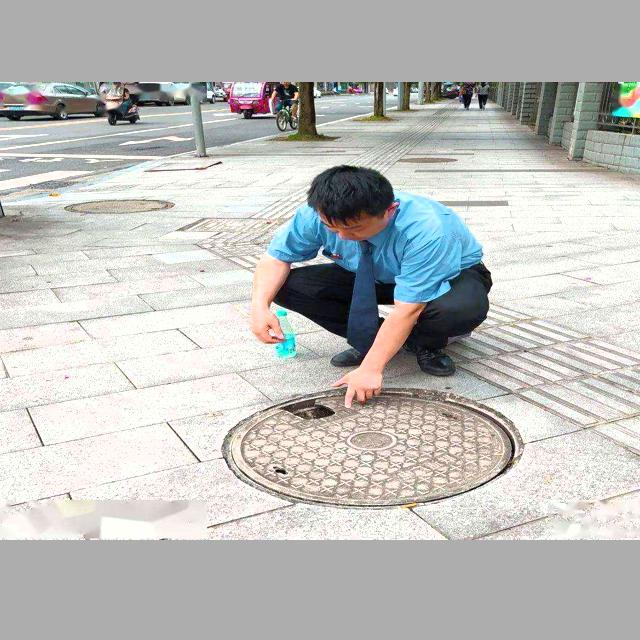broke: (217, 386, 517, 506)
